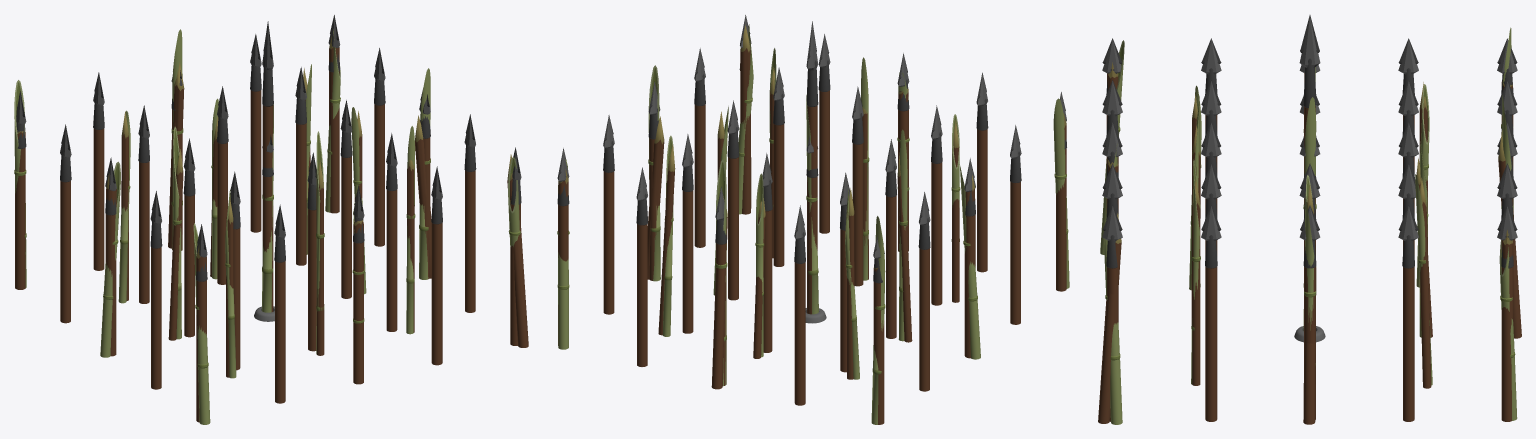
The model's file is SpikeTraps.fbx.
3 renders of one model, left to right at view 1: azimuth 30°, elevation 25°; view 2: azimuth 150°, elevation 25°; view 3: azimuth 270°, elevation 25°, orthographic. The views are drawn at different scales.
Parts seen in each view (by area): view 1: Punji03B, Punji02, Punji01, Punji03A, Punji04B, Spike03, Punji04A, Spike02; view 2: Punji03B, Punji02, Punji01, Punji03A, Punji04B, Spike03, Punji04A, Spike02; view 3: Punji03B, Punji01, Punji02, Punji04B, Punji03A, Punji04A, Spike02, Spike03, Spike04.
Part boxes in pixels (x1,y1,x2,y2): Punji03B: [16, 18, 521, 420]; Punji02: [14, 29, 520, 424]; Punji01: [17, 36, 528, 382]; Punji03A: [15, 15, 520, 422]; Punji04B: [60, 34, 475, 238]; Spike03: [262, 21, 273, 311]; Punji04A: [16, 16, 521, 257]; Spike02: [262, 104, 273, 312]; Punji03B: [558, 18, 1065, 424]; Punji02: [557, 24, 1069, 424]; Punji01: [558, 25, 1066, 424]; Punji03A: [557, 15, 1066, 424]; Punji04B: [564, 22, 1021, 257]; Spike03: [806, 21, 818, 314]; Punji04A: [557, 15, 1066, 258]; Spike02: [806, 94, 818, 314]; Punji03B: [1102, 38, 1517, 421]; Punji01: [1098, 62, 1521, 424]; Punji02: [1100, 27, 1517, 424]; Punji04B: [1102, 39, 1517, 241]; Punji03A: [1102, 39, 1517, 421]; Punji04A: [1102, 39, 1517, 240]; Spike02: [1303, 97, 1316, 330]; Spike03: [1300, 15, 1319, 173]; Spike04: [1299, 16, 1320, 67].
Size of the model in its own units: 213 by 180 by 215.
